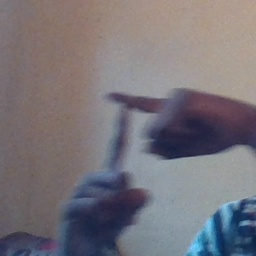T: (86, 81, 177, 187)
